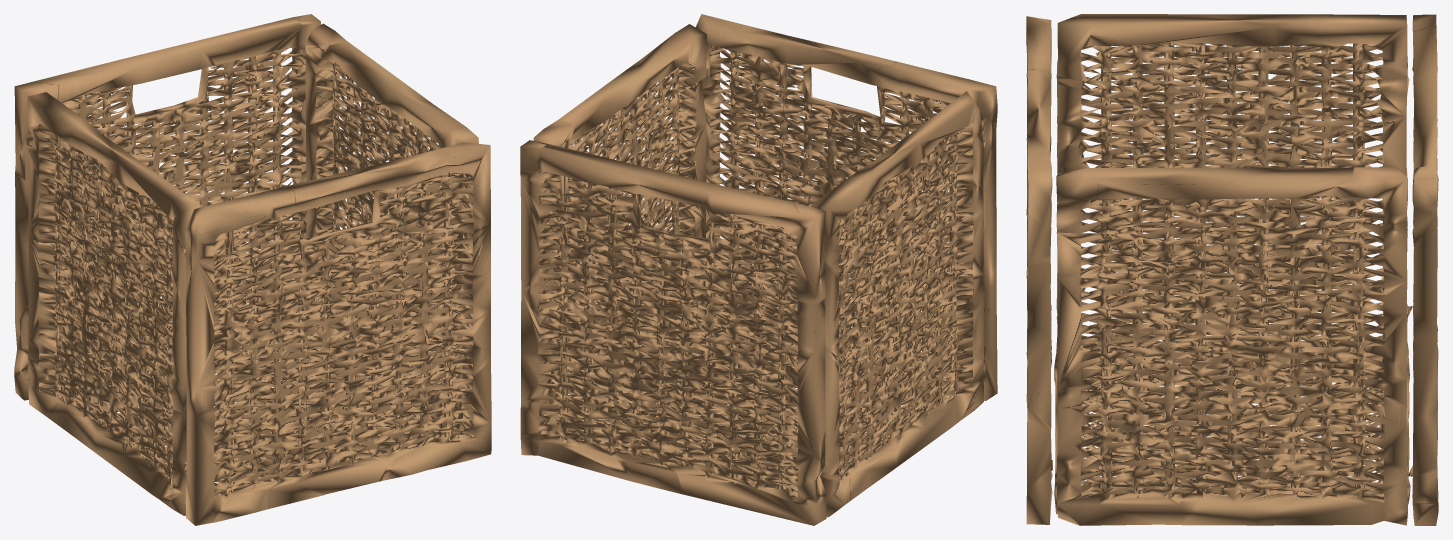
The model's file is LB-BASKET-03.glb.
3 views of the same model, side by side, from view 1: azimuth 30°, elevation 25°; view 2: azimuth 150°, elevation 25°; view 3: azimuth 270°, elevation 25° (orthographic). The views are drawn at different scales.
Parts seen in each view (by area): view 1: ProcessedMeshNode; view 2: ProcessedMeshNode; view 3: ProcessedMeshNode.
Part boxes in pixels (<box>): ProcessedMeshNode: <box>14,14,491,525</box>; ProcessedMeshNode: <box>520,14,997,525</box>; ProcessedMeshNode: <box>1026,14,1438,525</box>.
Size of the model in its own units: 0.32 by 0.3191 by 0.3396.
1 material, 1 textured.
